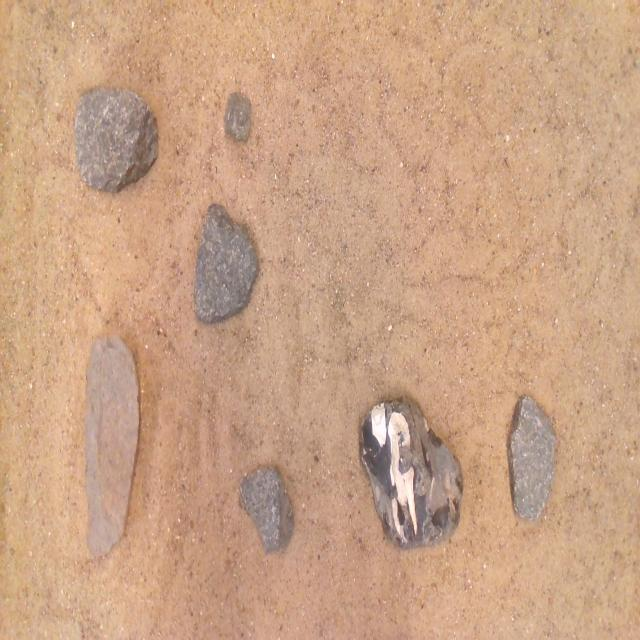rock: (361, 398, 462, 547), (85, 336, 139, 556), (75, 89, 157, 192), (194, 204, 257, 322), (508, 396, 555, 520), (240, 468, 293, 552), (224, 92, 251, 140)
